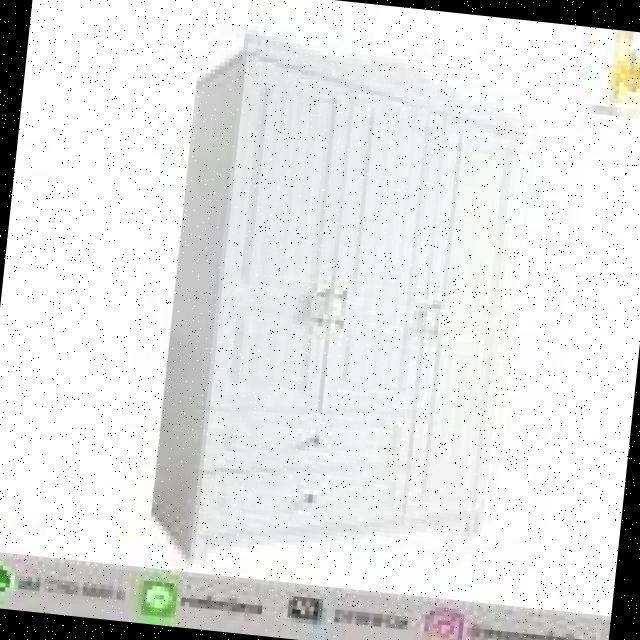Closet: (138, 22, 538, 588)
